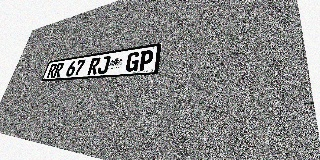plate: (41, 43, 162, 81)
